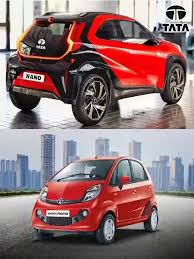Nano: (8, 9, 187, 123), (30, 156, 159, 242)
